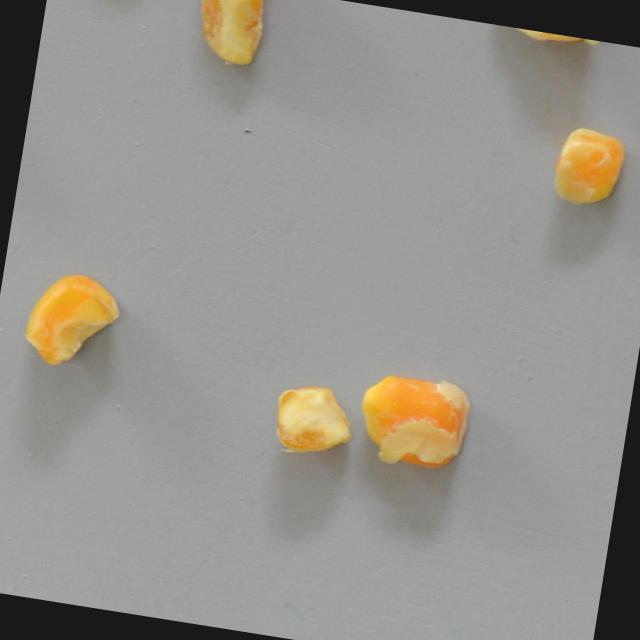pelicula: (235, 353, 380, 478), (340, 357, 485, 482), (0, 257, 138, 382), (516, 101, 640, 225), (470, 21, 605, 79), (183, 0, 269, 73)
